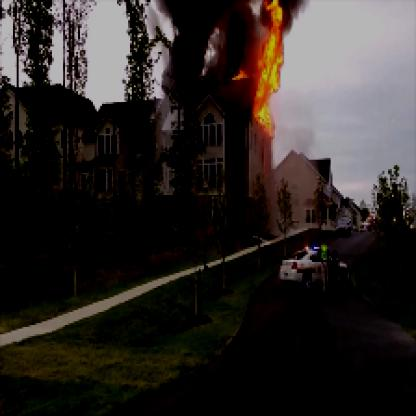Fire: (232, 2, 292, 132)
Smoke: (171, 2, 256, 93)
